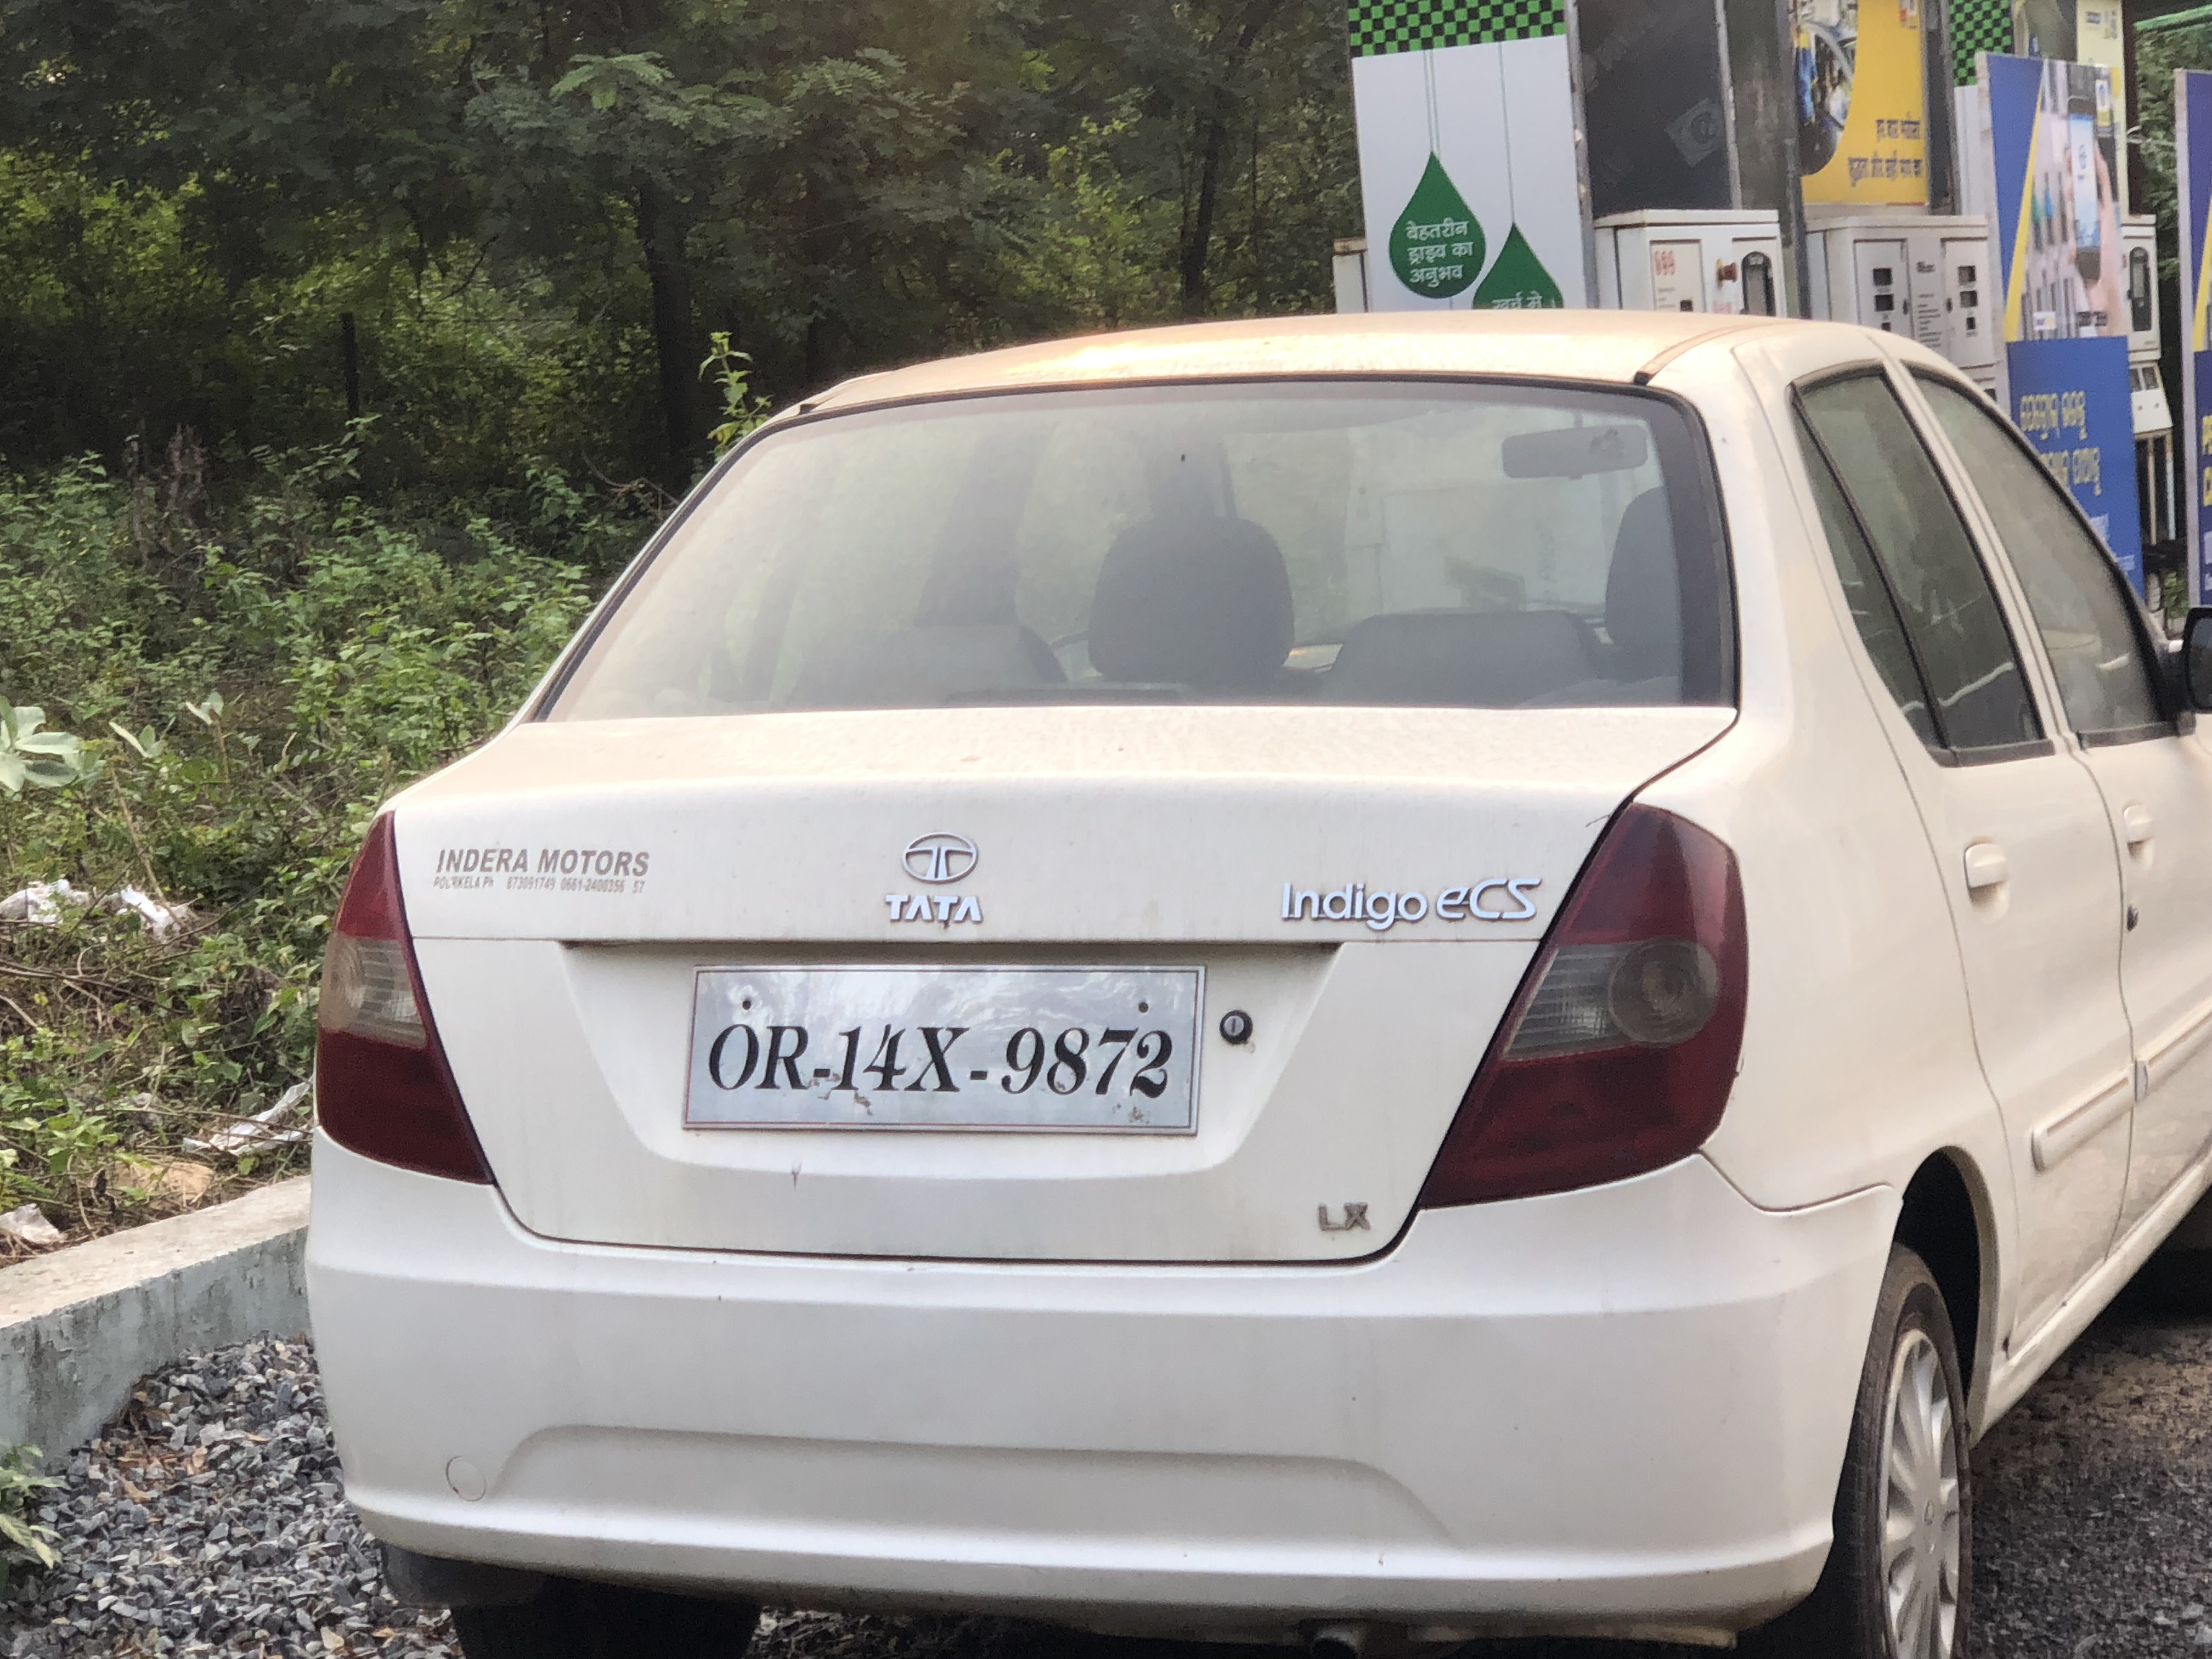licenseplate: (676, 956, 1200, 1142)
